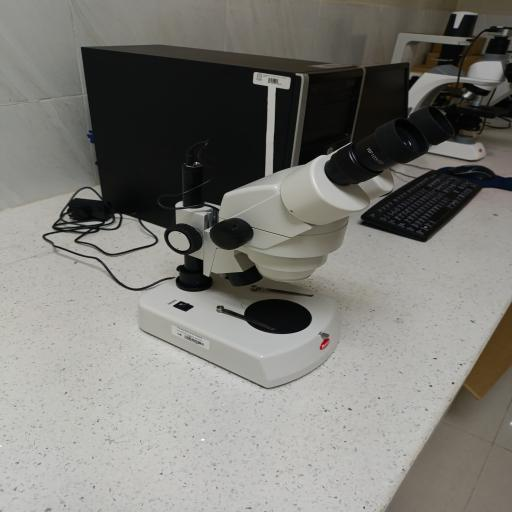Microscopio_estereo: (134, 98, 464, 394)
